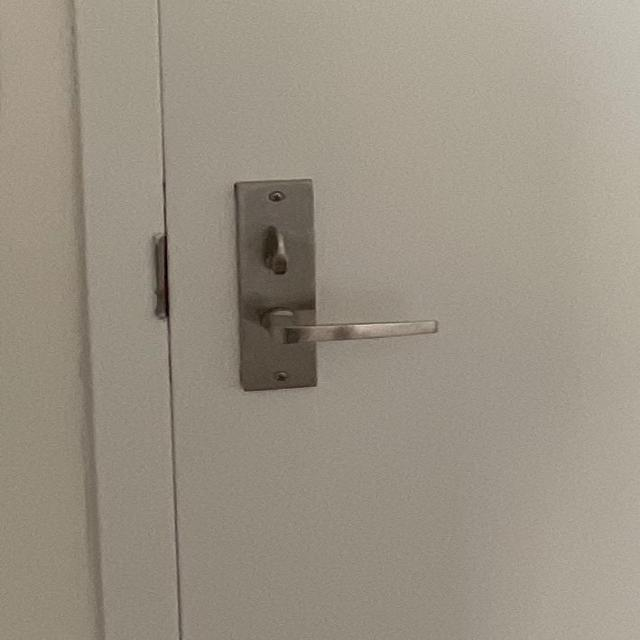door_handle: (244, 296, 455, 357)
